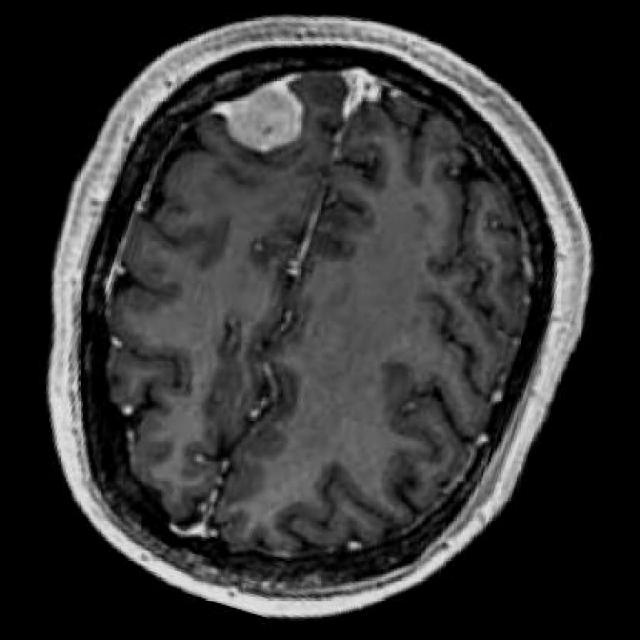Brain-Tumor: (212, 68, 320, 168), (336, 61, 398, 122)
